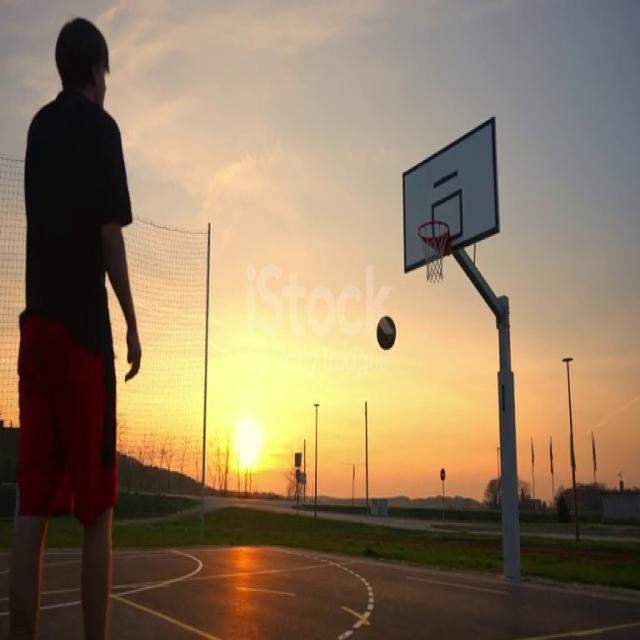ball: (376, 316, 396, 351)
